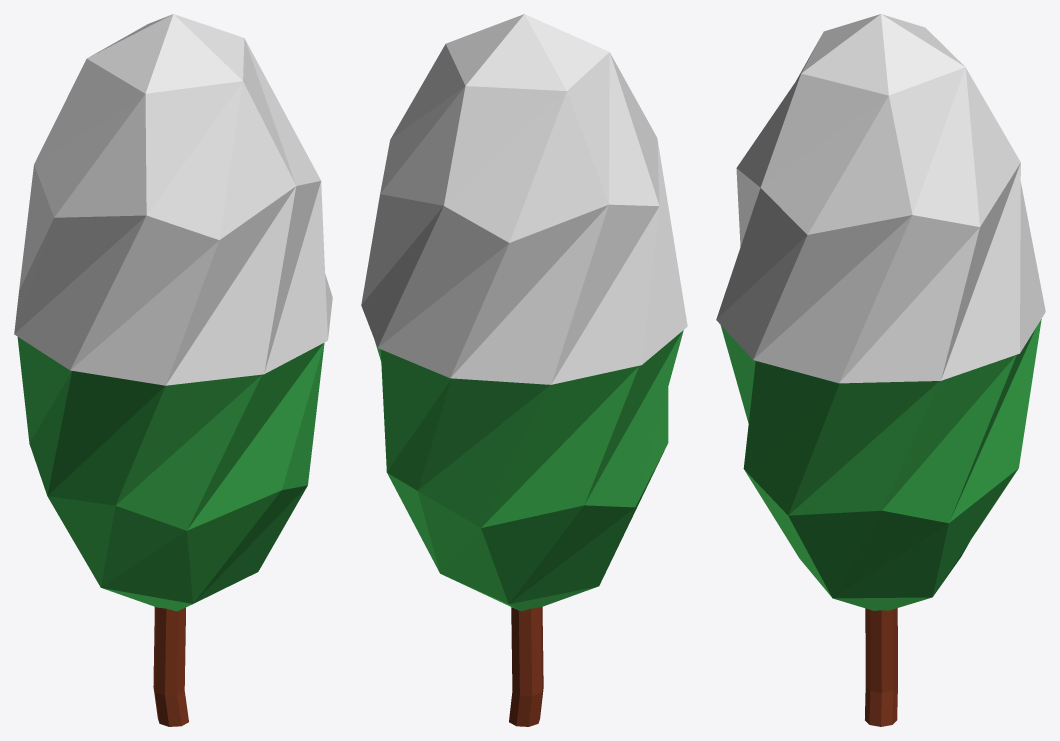
The model's file is tree.2.fbx.
3 renders of one model, left to right at view 1: azimuth 30°, elevation 25°; view 2: azimuth 150°, elevation 25°; view 3: azimuth 270°, elevation 25°, orthographic.
Parts seen in each view (by area): view 1: Tree.002; view 2: Tree.002; view 3: Tree.002.
Boxes of the visible parts, <box> form: Tree.002: <box>14,14,332,726</box>; Tree.002: <box>361,14,687,726</box>; Tree.002: <box>716,14,1045,726</box>.
Size of the model in its own units: 395 by 963 by 408.
